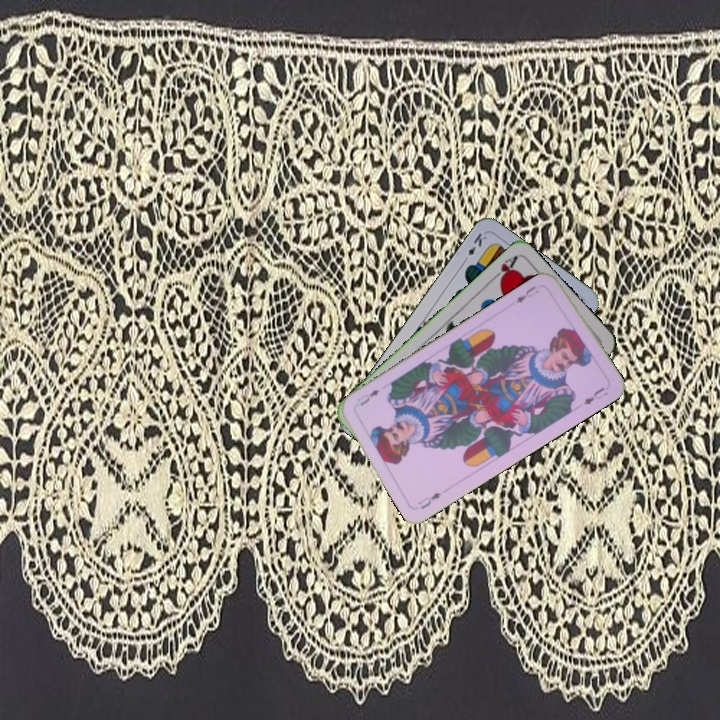EK: (459, 229, 490, 266)
EU: (511, 282, 542, 306), (414, 488, 444, 512)
HA: (486, 252, 520, 285)
